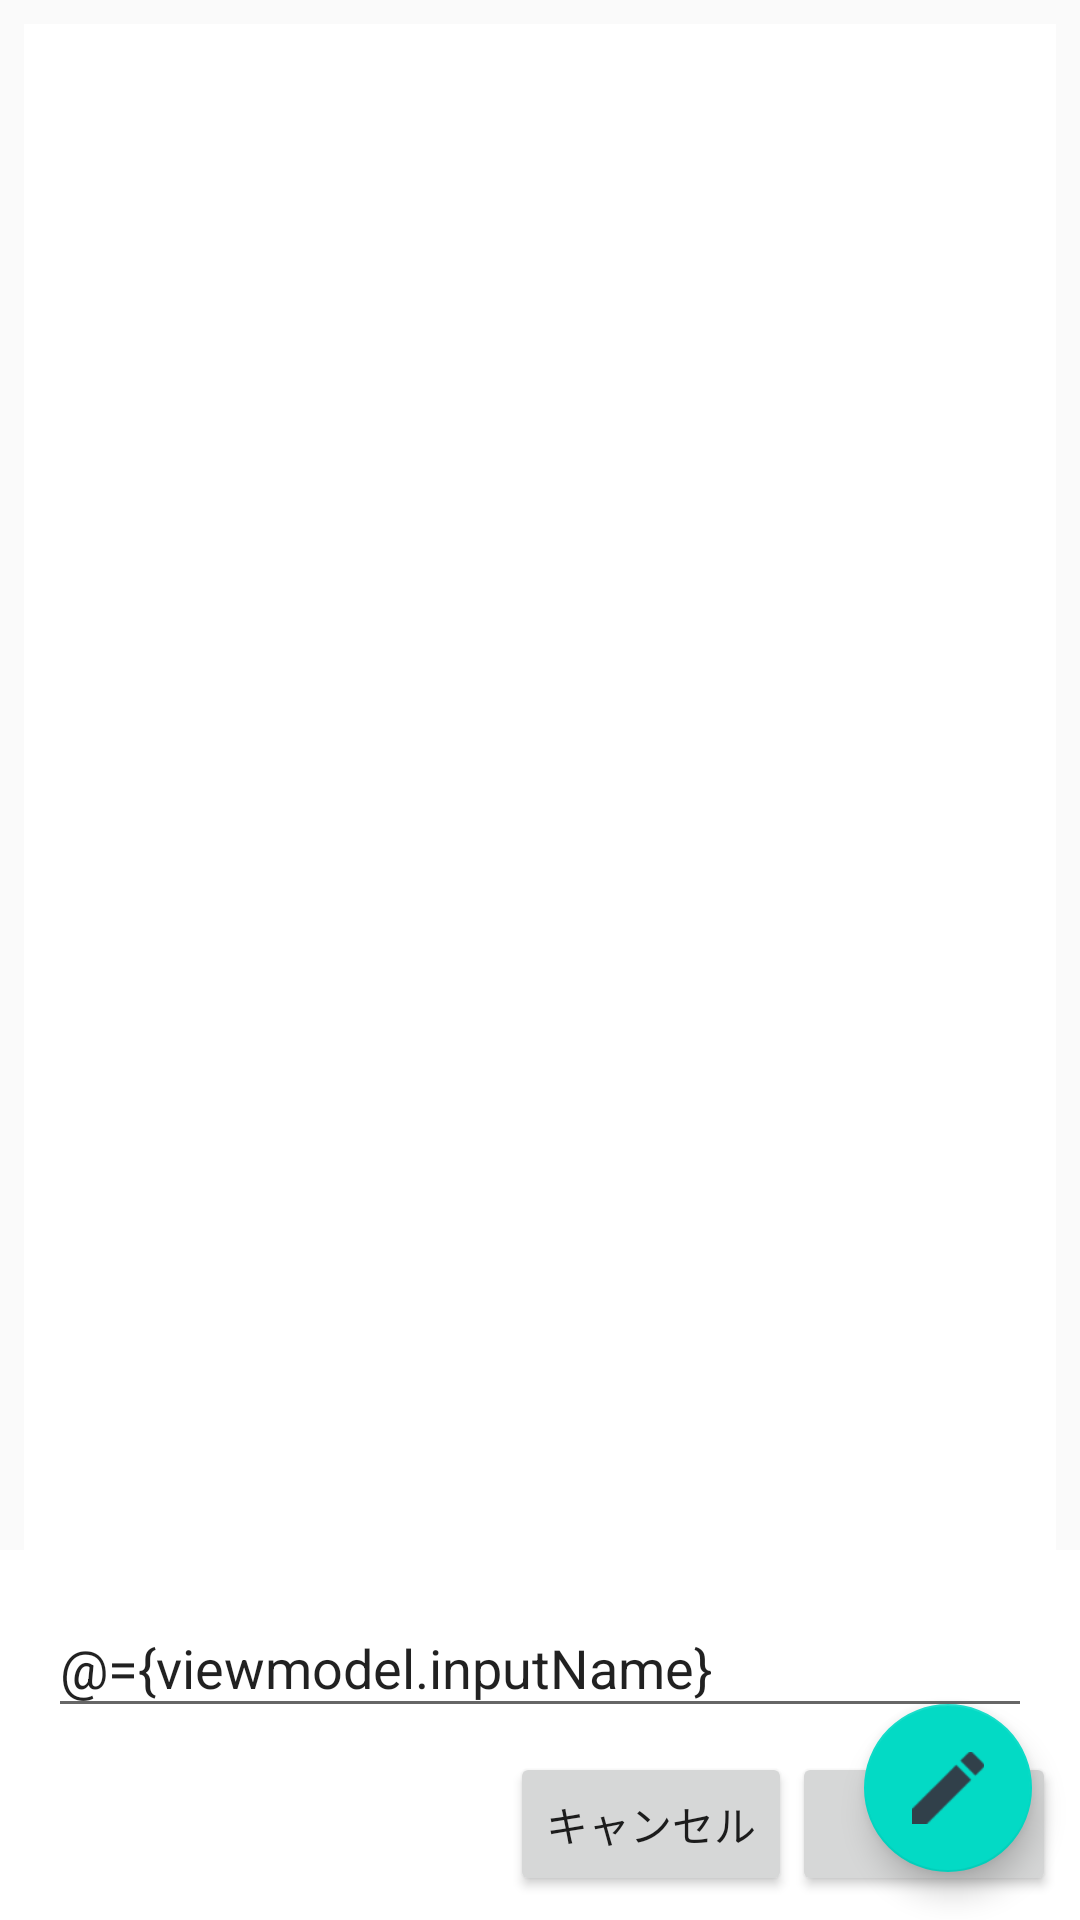

Screen size 1080x1920. Icon name, then its center in pixels as (x=x, y=y):
create: (x=948, y=1788)
